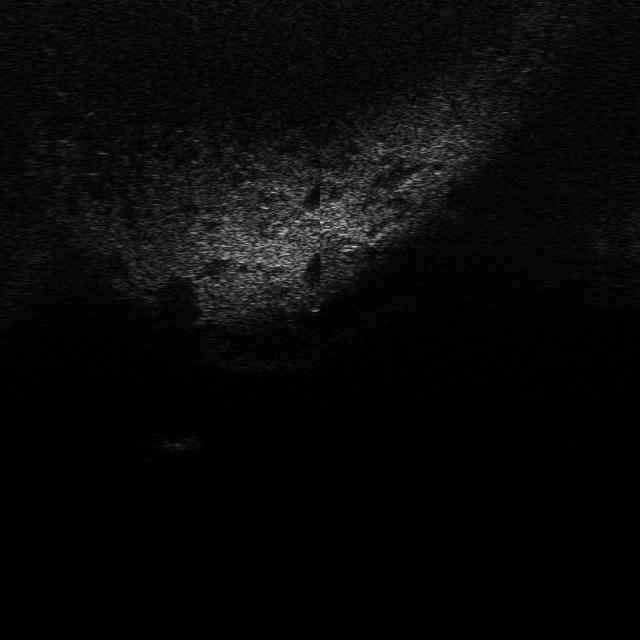ball: (298, 290, 326, 314)
cube: (152, 429, 207, 455)
